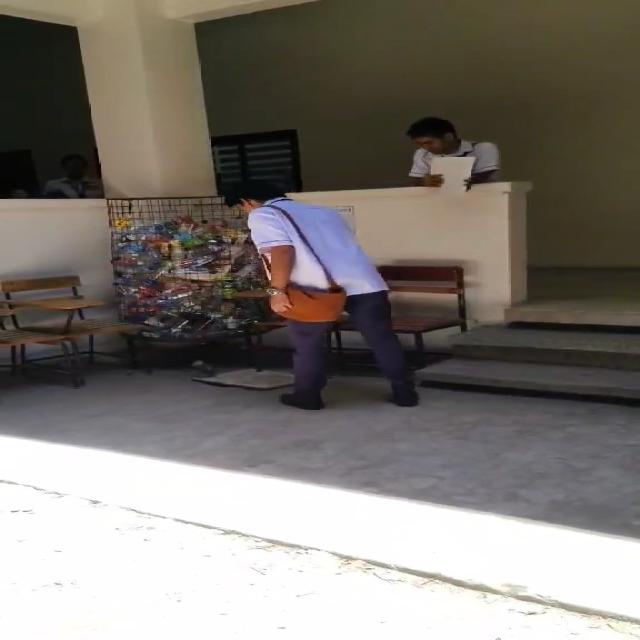Bottle: (187, 359, 217, 378)
